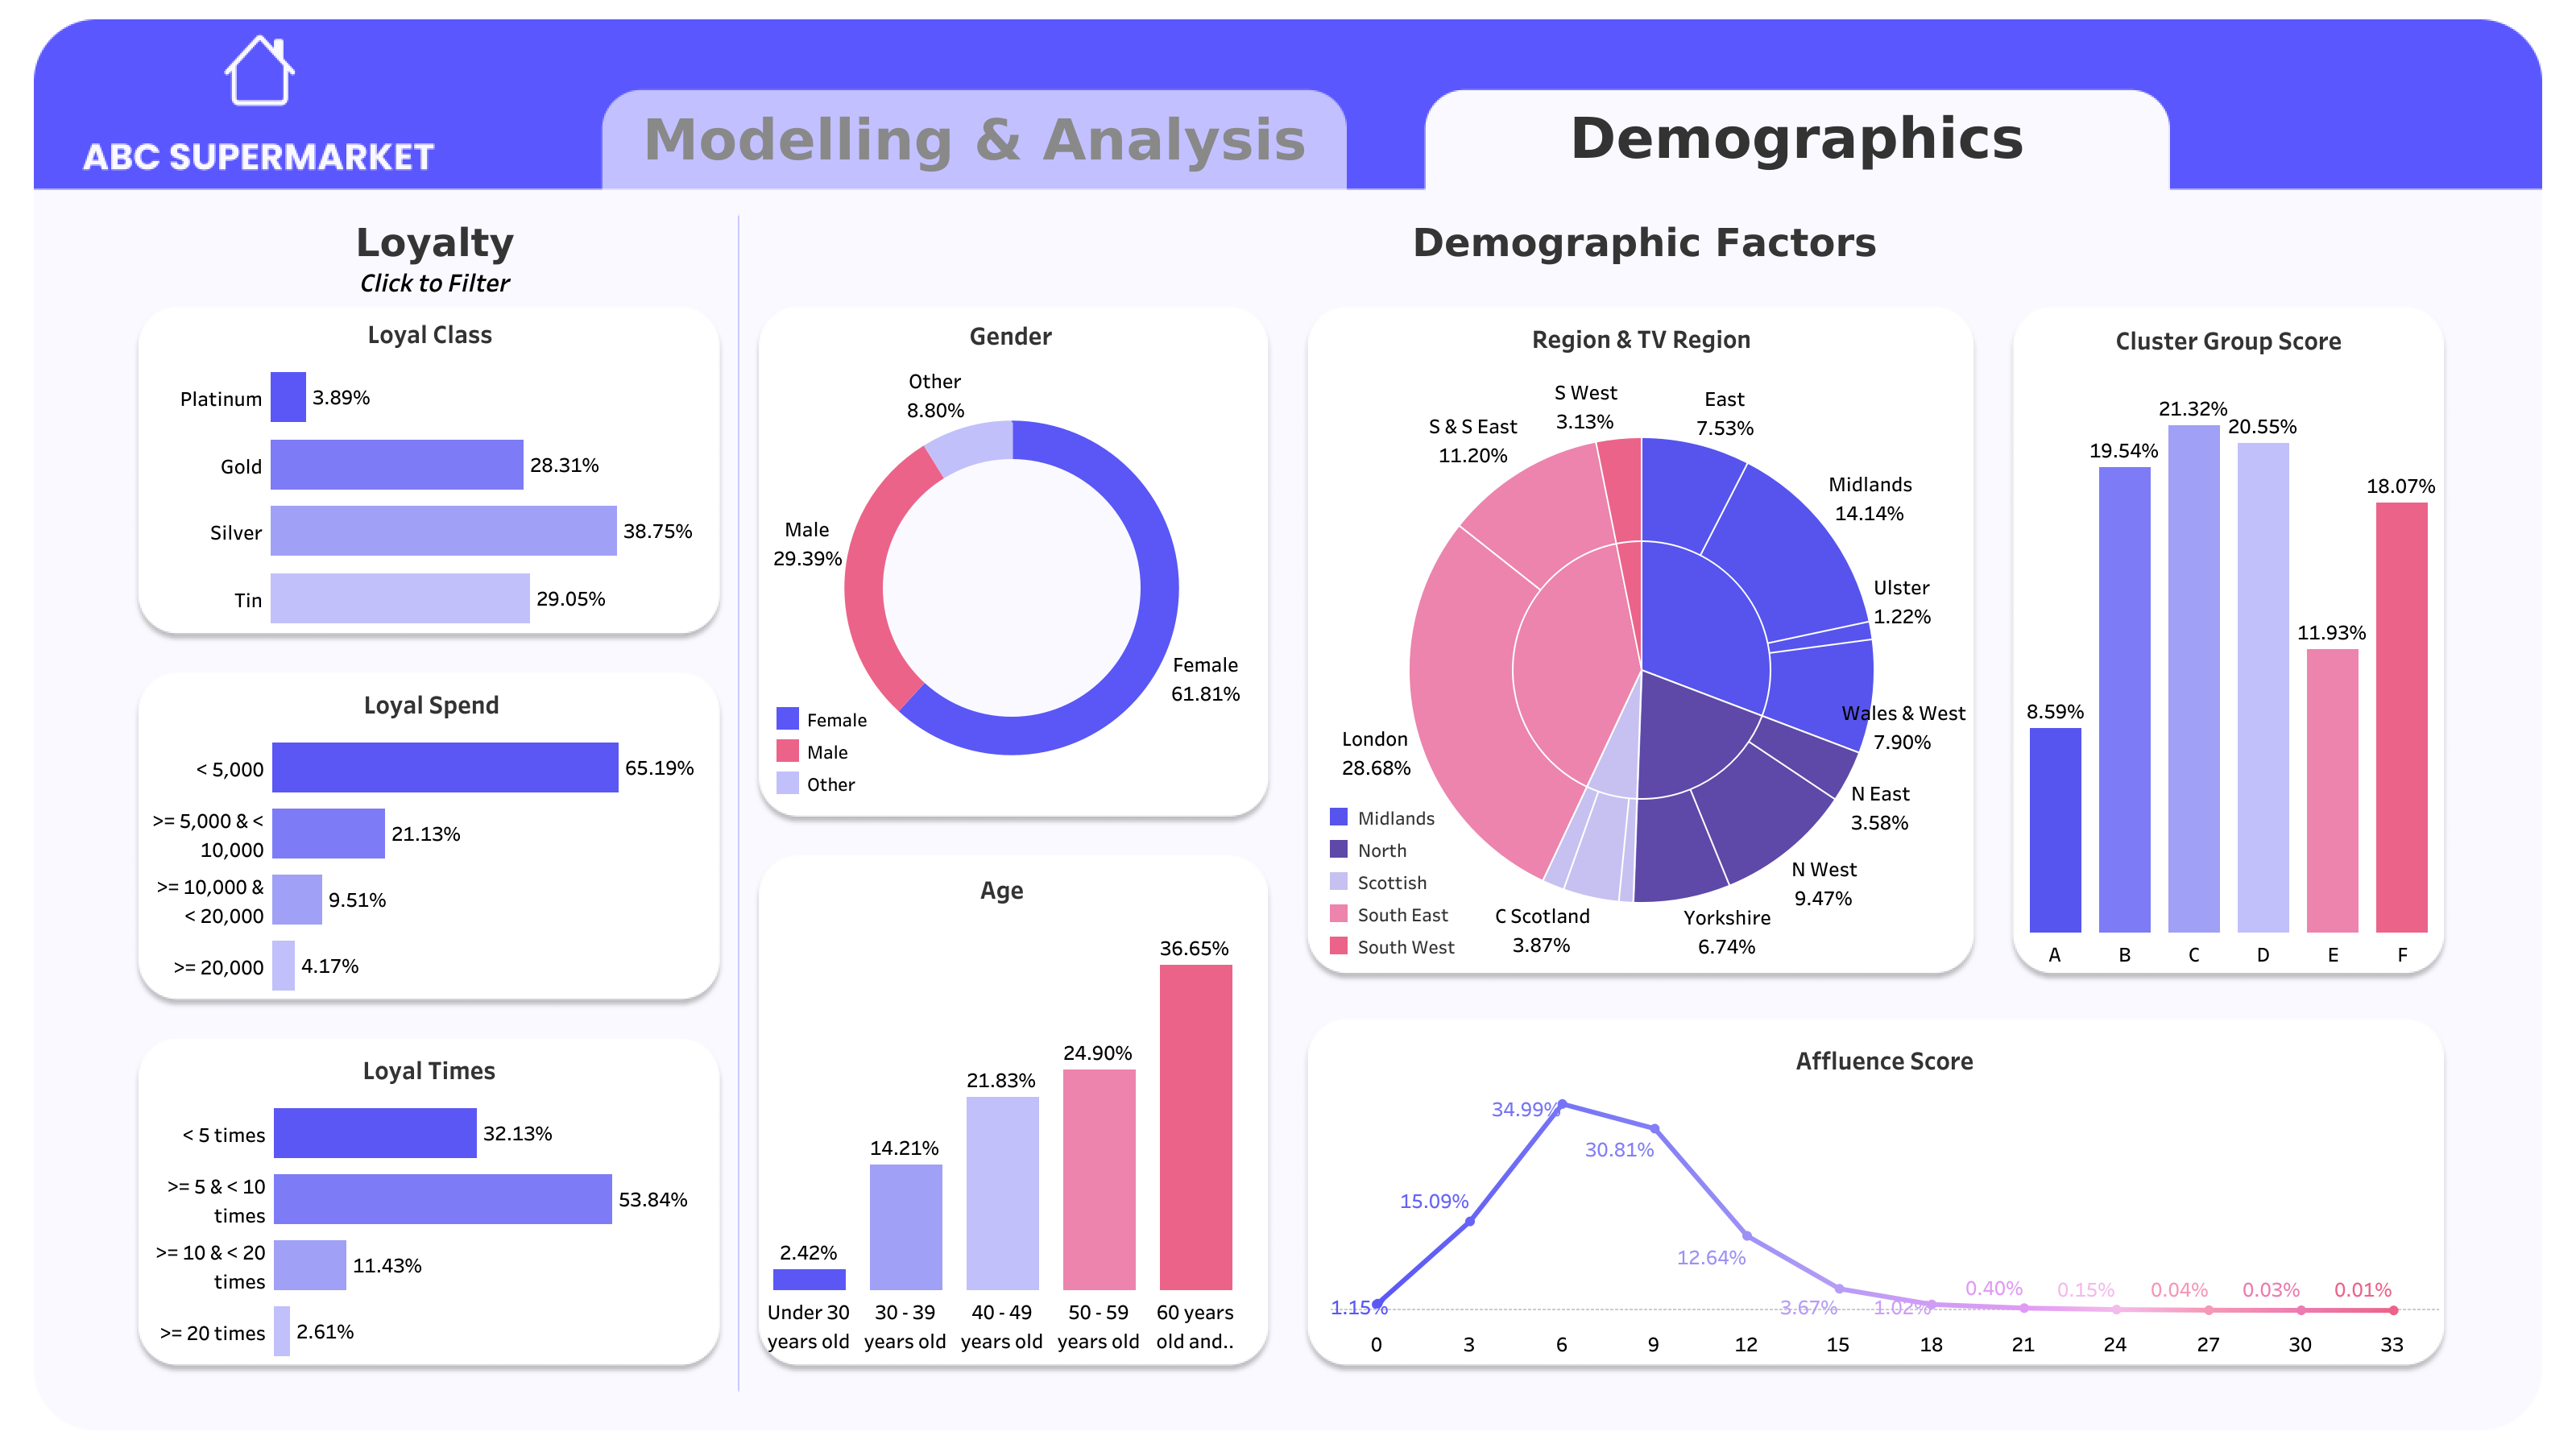

This screenshot's page, from the dashboard's own definition file:
{"tool":"tableau","page":{"name":"Demographics","canvas":[1600,900],"ordinal":0},"visuals":[{"type":"image","param":"/Users/gahooshao/Downloads/Dashboard Background 3 - test.jpg","box":[8,8,1584,884]},{"type":"dashboard-object","box":[883,55,465,62]},{"type":"dashboard-object","box":[374,56,462,61]},{"type":"text","box":[120,120,300,60]},{"type":"text","box":[871,120,300,60]},{"type":"text","box":[220,159,100,30]},{"type":"worksheet","title":"Loyal Class","mark":"Automatic","rows":["LoyalClass"],"cols":["Calculation_2049419353574035456"],"box":[88,190,358,202]},{"type":"worksheet","title":"Gender","mark":"Pie","rows":["Calculation_2049419353633902594","Calculation_2049419353633927172"],"box":[471,191,314,312]},{"type":"worksheet","title":"Region & TV Region","mark":"Pie","cols":["Calculation_2049419353653452814","Calculation_2049419353653424140"],"box":[816,193,406,410]},{"type":"worksheet","title":"Cluster Group Score","mark":"Automatic","cols":["DemClusterGroup"],"box":[1254,194,262,407]},{"type":"worksheet","title":"Loyal Spend","mark":"Automatic","cols":["Calculation_2049419353574035456"],"box":[89,420,358,200]},{"type":"legend","title":"Gender","param":"[federated.1rhqc6n1ojmc06138e7650i0synd].[none:DemGender:nk]","box":[479,436,73,68]},{"type":"legend","title":"Region & TV Region","param":"[federated.1rhqc6n1ojmc06138e7650i0synd].[none:DemReg:nk]","box":[821,497,90,111]},{"type":"worksheet","title":"Age","mark":"Bar","rows":["Calculation_2049419353574035456"],"box":[472,535,312,306]},{"type":"worksheet","title":"Affluence Score","mark":"Line","cols":["Dem Affl (bin)"],"box":[826,641,688,202]},{"type":"worksheet","title":"Loyal Times","mark":"Automatic","cols":["Calculation_2049419353574035456"],"box":[90,647,353,200]}]}

Visuals, with their boxes in screenshot pixels (x1, y1, x2, y2), scaled from the page's 1600x900 canvas onto the 2576x1448 screenshot:
image: crop(13, 13, 2563, 1435)
dashboard-object: crop(1422, 89, 2170, 188)
dashboard-object: crop(603, 90, 1346, 188)
text: crop(193, 193, 676, 290)
text: crop(1402, 193, 1886, 290)
text: crop(354, 256, 516, 304)
"Loyal Class" worksheet: crop(142, 306, 718, 631)
"Gender" worksheet (Pie marks): crop(758, 308, 1264, 809)
"Region & TV Region" worksheet (Pie marks): crop(1314, 311, 1967, 970)
"Cluster Group Score" worksheet: crop(2019, 312, 2441, 967)
"Loyal Spend" worksheet: crop(143, 676, 719, 998)
"Gender" legend: crop(771, 701, 888, 811)
"Region & TV Region" legend: crop(1322, 800, 1467, 978)
"Age" worksheet (Bar marks): crop(760, 861, 1262, 1353)
"Affluence Score" worksheet (Line marks): crop(1330, 1032, 2437, 1356)
"Loyal Times" worksheet: crop(145, 1041, 713, 1363)
